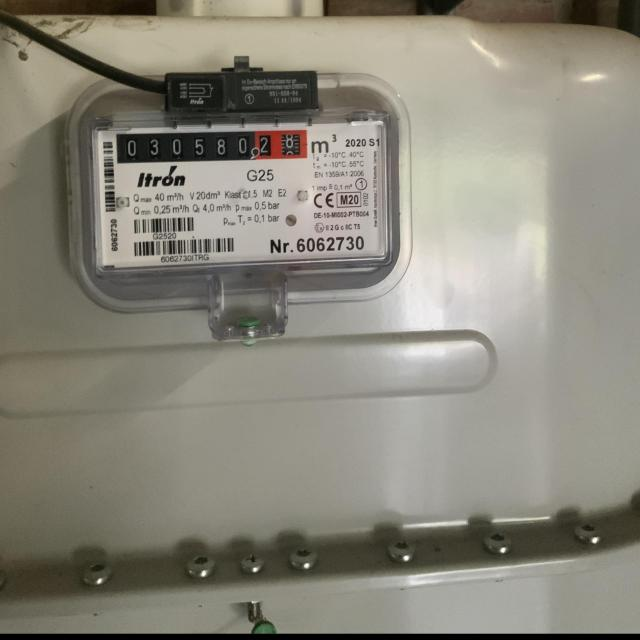gaz_meter: (92, 121, 386, 269)
indication: (116, 131, 308, 164)
